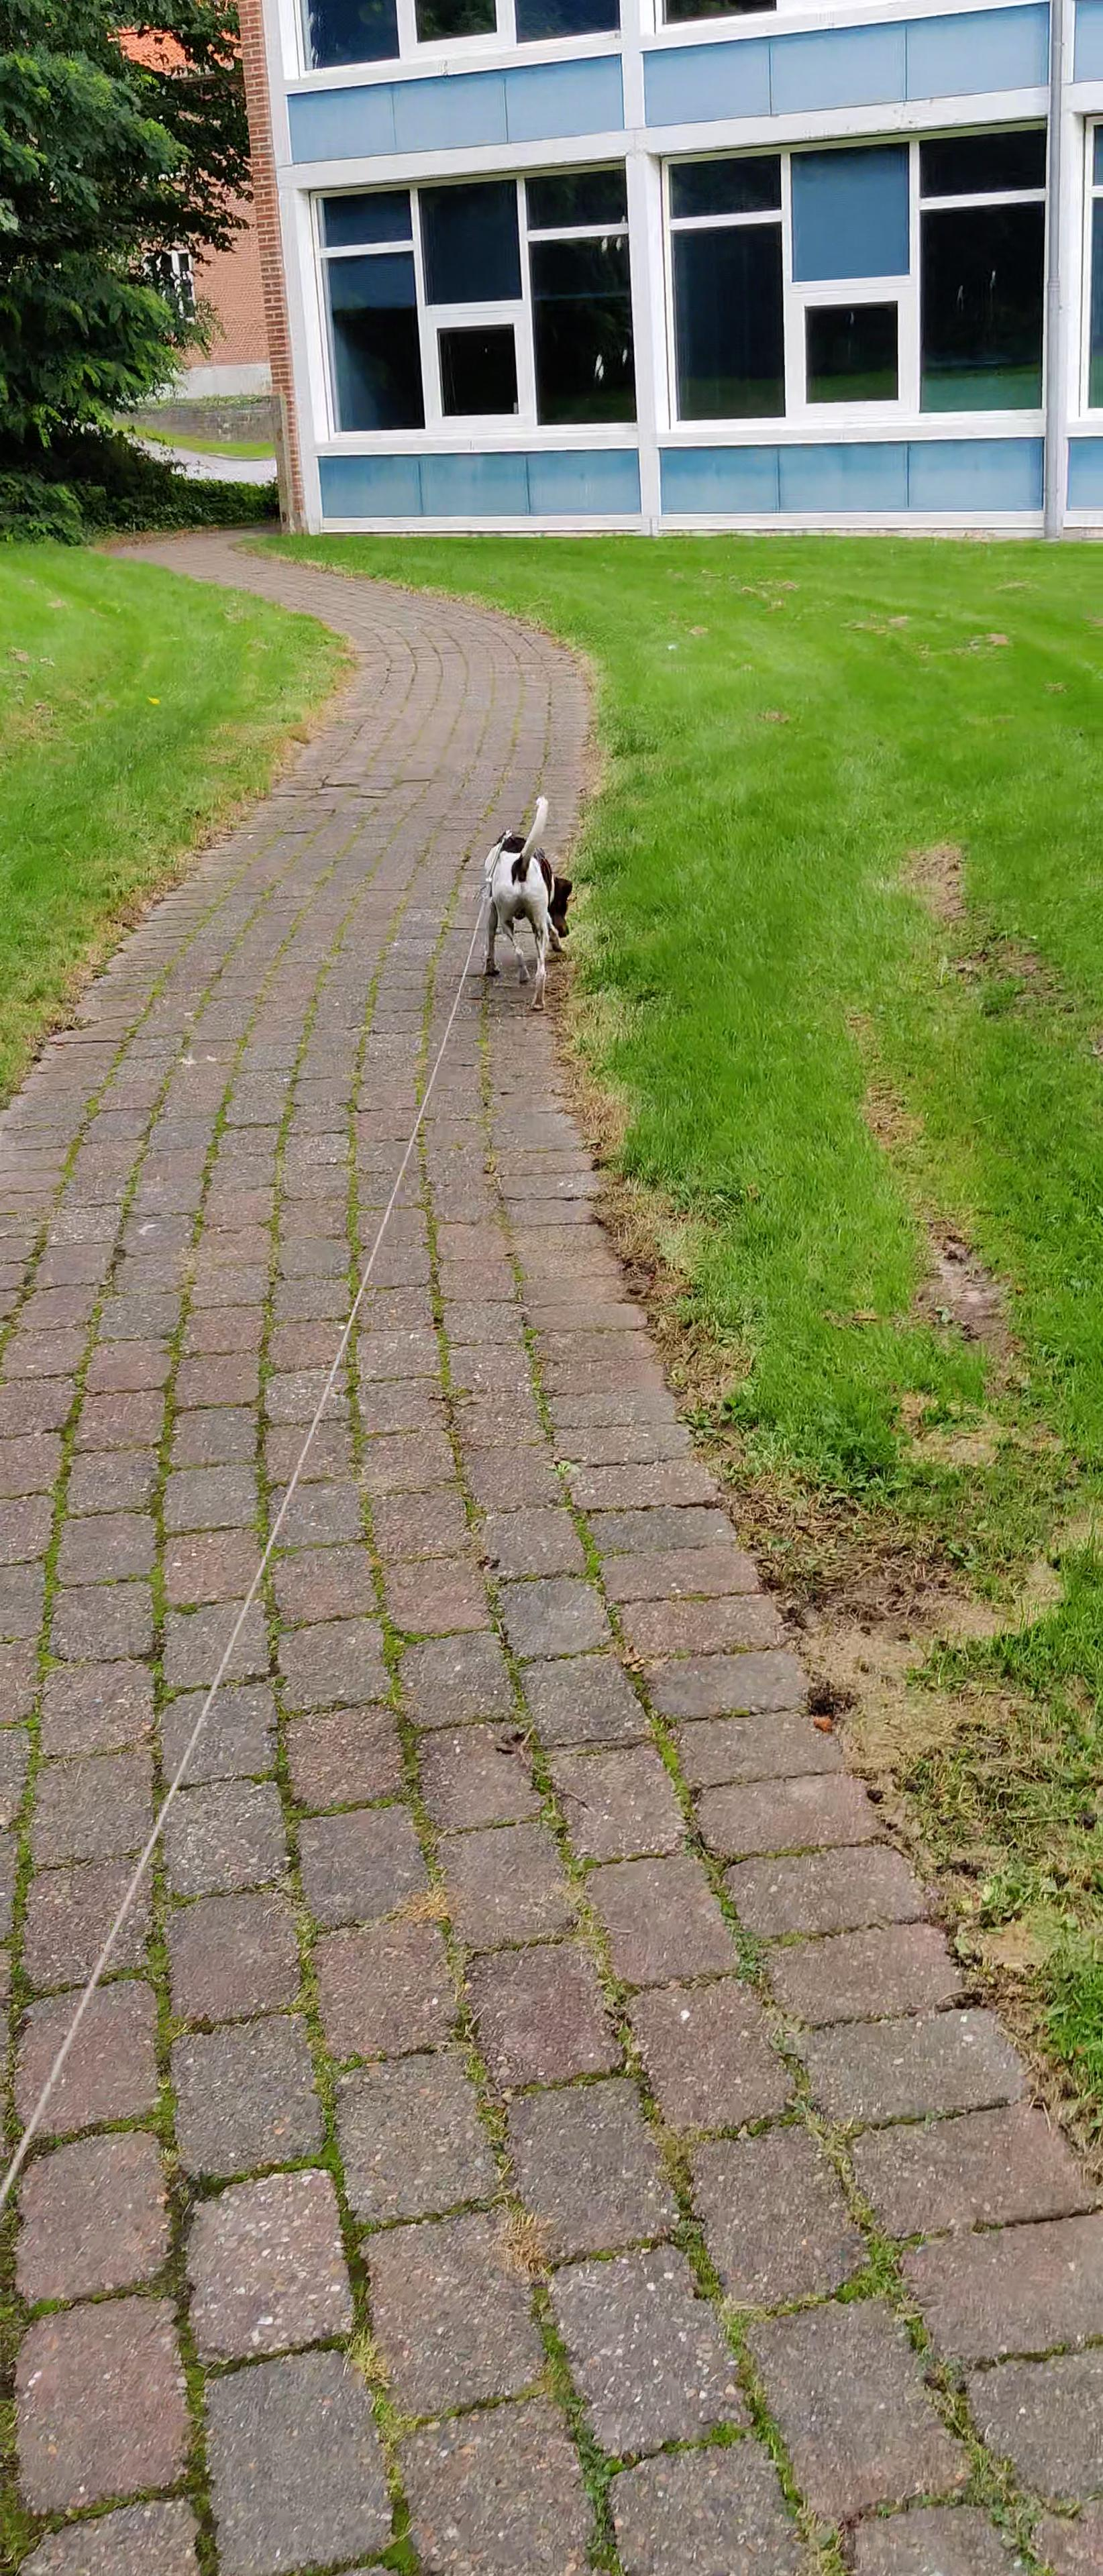Dog: (472, 779, 582, 1020)
